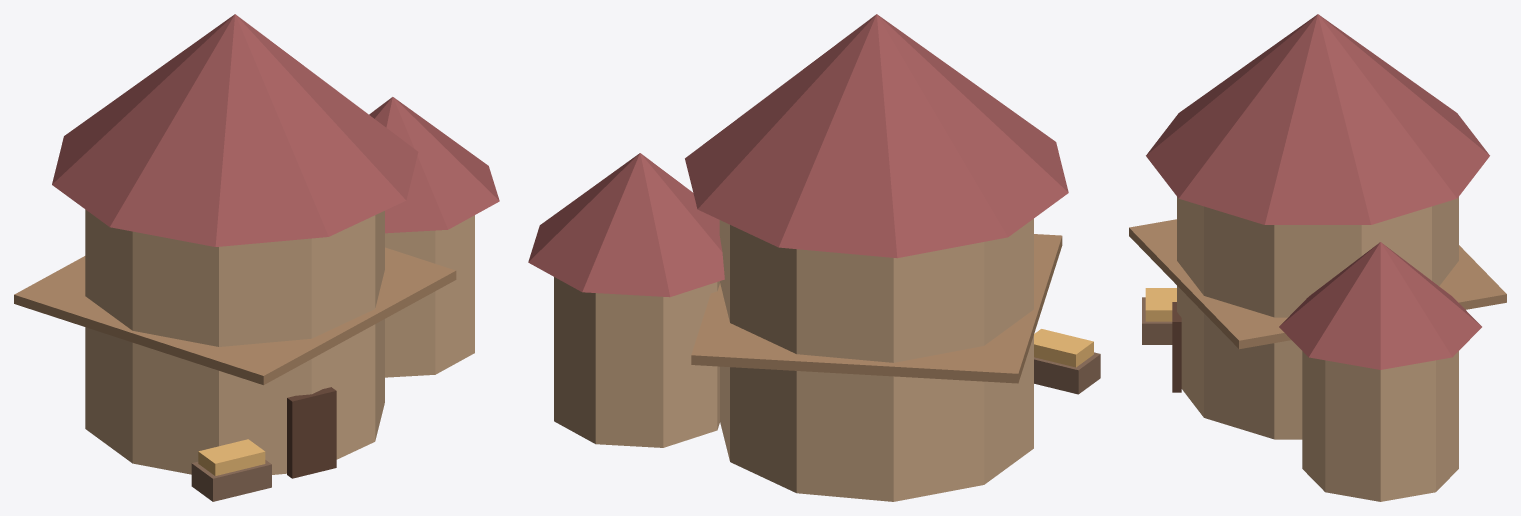
File: great_granary.glb
The picture shows the model from 3 angles, left to right: view 1: azimuth 30°, elevation 25°; view 2: azimuth 150°, elevation 25°; view 3: azimuth 270°, elevation 25°; orthographic projection. The views are drawn at different scales.
Visible parts, largest first — view 1: silo, roof, detail_band, silo2, roof2, door, detail_cart, detail_grain; view 2: silo, roof, silo2, roof2, detail_band, detail_cart, detail_grain; view 3: roof, silo, silo2, roof2, detail_band, detail_grain, door, detail_cart.
Part boxes in pixels (<box>): silo: <box>85,209,384,474</box>; roof: <box>52,14,418,246</box>; detail_band: <box>14,247,456,385</box>; silo2: <box>385,215,474,377</box>; roof2: <box>369,97,499,233</box>; door: <box>287,387,336,478</box>; detail_cart: <box>191,460,271,501</box>; detail_grain: <box>198,439,265,475</box>; silo: <box>719,218,1033,501</box>; roof: <box>685,14,1068,258</box>; silo2: <box>554,277,719,447</box>; roof2: <box>528,153,724,297</box>; detail_band: <box>691,234,1062,383</box>; detail_cart: <box>1034,352,1100,394</box>; detail_grain: <box>1034,329,1093,367</box>; roof: <box>1146,14,1489,224</box>; silo: <box>1177,197,1458,439</box>; silo2: <box>1302,351,1458,501</box>; roof2: <box>1279,242,1481,369</box>; detail_band: <box>1129,219,1506,349</box>; detail_grain: <box>1145,288,1176,321</box>; door: <box>1172,302,1181,392</box>; detail_cart: <box>1142,297,1172,344</box>.
Bounding box in the file's own units: 3.16 × 2.6 × 2.41.
